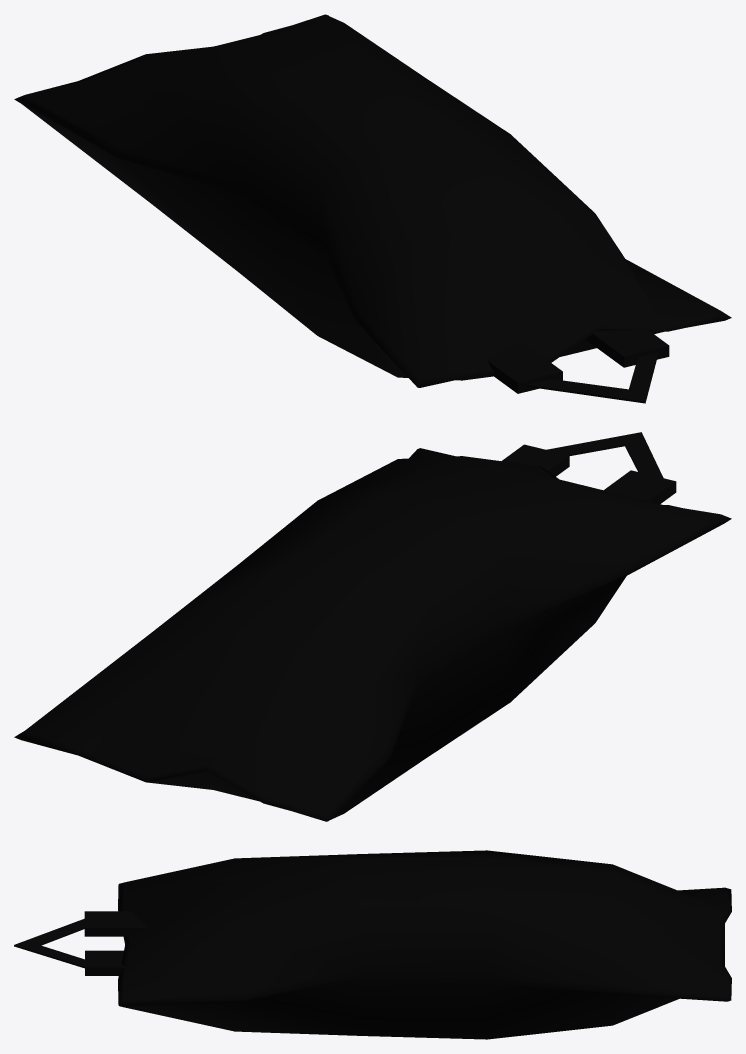
Rendered from Body_Bag.fbx.
3 renders of one model, top to bottom at view 1: azimuth 30°, elevation 25°; view 2: azimuth 150°, elevation 25°; view 3: azimuth 270°, elevation 25°, orthographic. The views are drawn at different scales.
Parts seen in each view (by area): view 1: Body_Bag_SM, Body_Bag_Handle_SM; view 2: Body_Bag_SM, Body_Bag_Handle_SM; view 3: Body_Bag_SM, Body_Bag_Handle_SM.
Boxes of the visible parts, <box> form: Body_Bag_SM: <box>14,14,731,387</box>; Body_Bag_Handle_SM: <box>487,326,669,403</box>; Body_Bag_SM: <box>14,448,731,821</box>; Body_Bag_Handle_SM: <box>501,432,676,503</box>; Body_Bag_SM: <box>118,850,731,1039</box>; Body_Bag_Handle_SM: <box>14,911,147,975</box>.
Bounding box in the file's own units: 58.36 × 34.73 × 152.
Materials: 2 (2 with a texture image).
